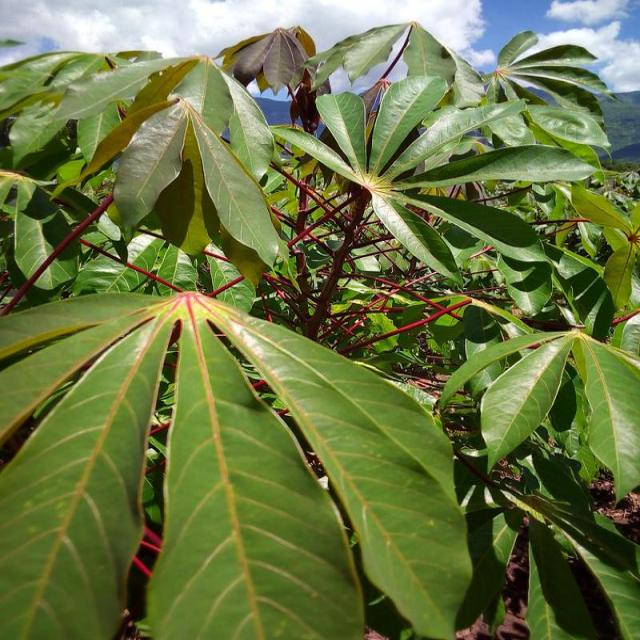cassava leaf: (2, 19, 638, 639), (1, 289, 474, 638), (145, 294, 367, 638)
